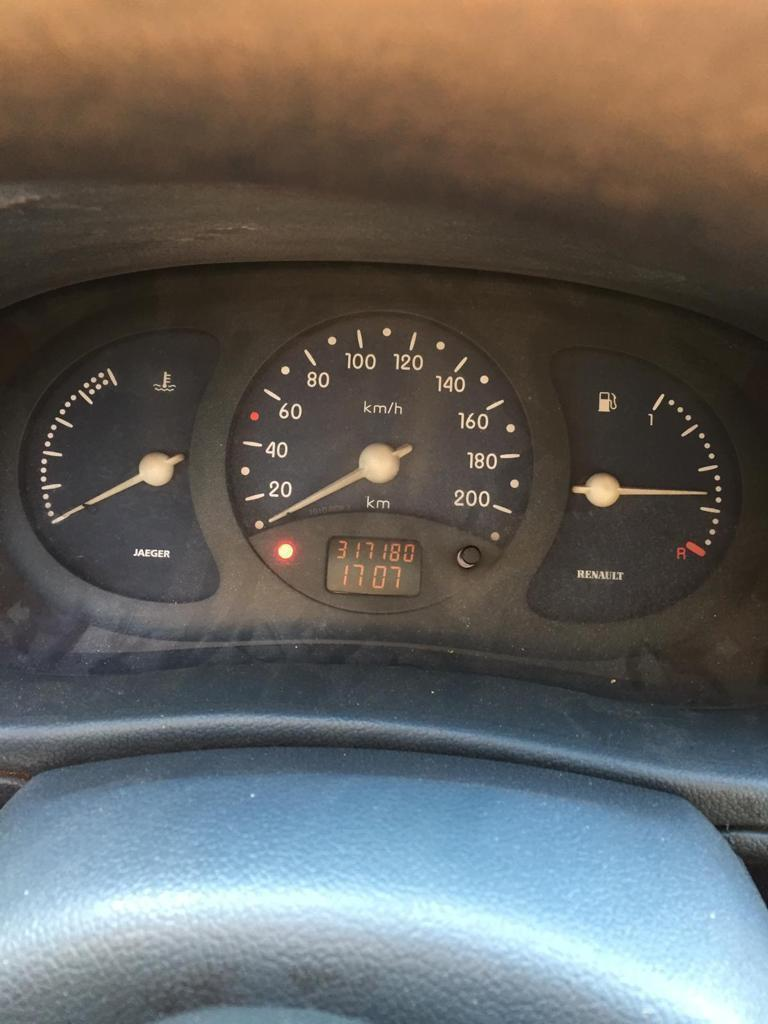0: (369, 564, 387, 588), (403, 542, 415, 562)
1: (339, 563, 349, 586), (379, 541, 389, 561), (352, 540, 362, 559)
3: (333, 539, 347, 559)
7: (351, 562, 366, 587), (388, 564, 402, 589), (363, 539, 375, 561)
8: (389, 541, 401, 562)
odometer: (323, 534, 424, 598)
